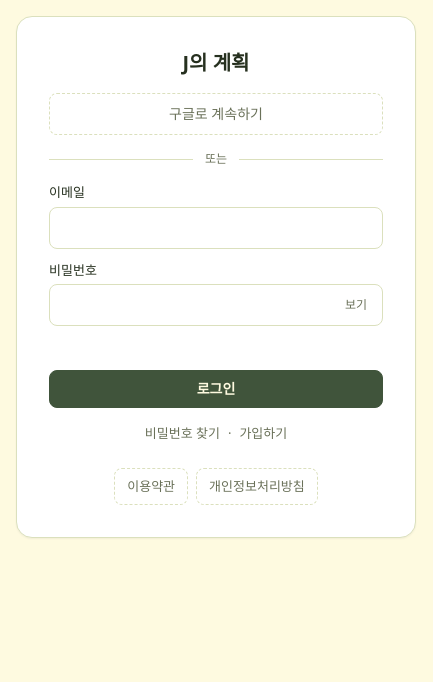
Test: 로그인 화면 /login (US-34, D-072) › 점선 자리 "구글로 계속하기"는 눌러도 오류 없이 "준비 중이에요" (D-008 방식)
The width and height of the screenshot is (433, 682).
Click the button "구글로 계속하기" at point(216, 114), box [49,93,383,135]
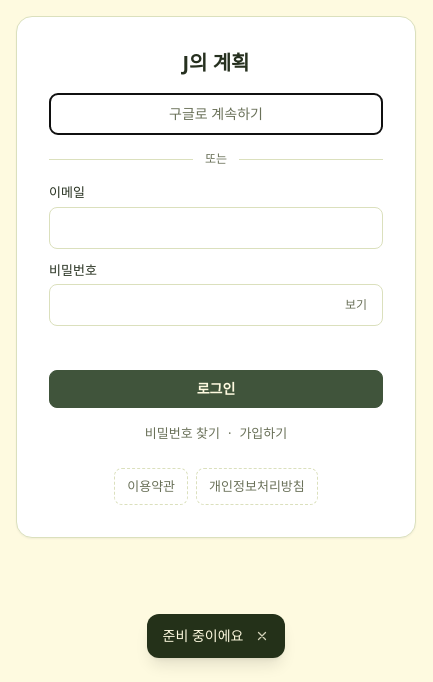
expect the message reads "준비 중이에요": met, box [162,626,243,645]
